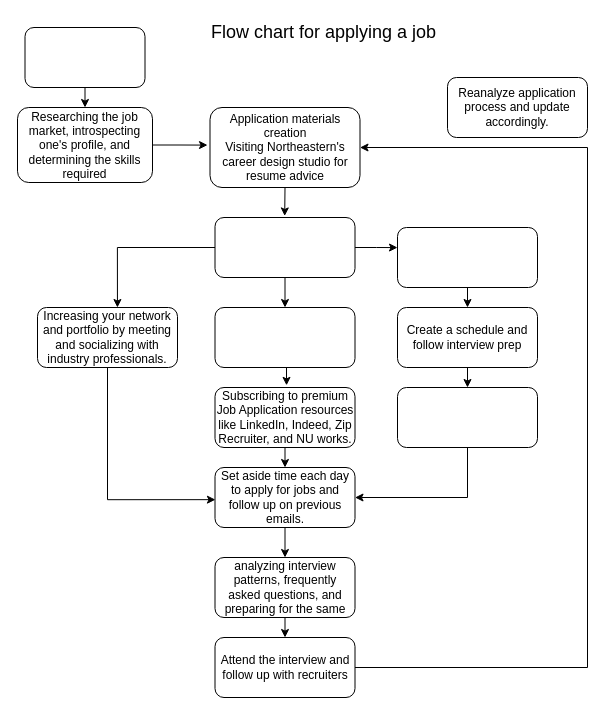
This 613x715 diagram has some shape labels left out. Here are the shapes that lost their labels. From the top down, the centre of each, then its label:
At point (84, 57): "Identifying and understanding career goals.".
At point (284, 247): "Analyzing the strengths, weakness in regard to technologies and roles".
At point (467, 257): "Meeting coop advisors and seeking suggestions about job market.".
At point (284, 337): "Creating a list of desired job roles and companies".
At point (467, 417): "Working on the skills that are weak and are high demand in industry".
